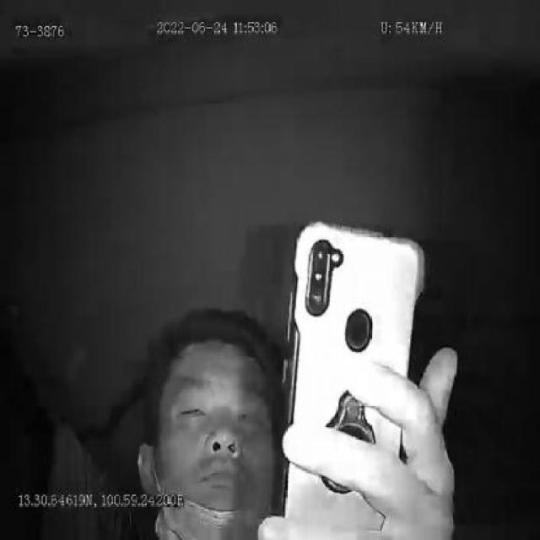phone: (278, 214, 428, 540)
